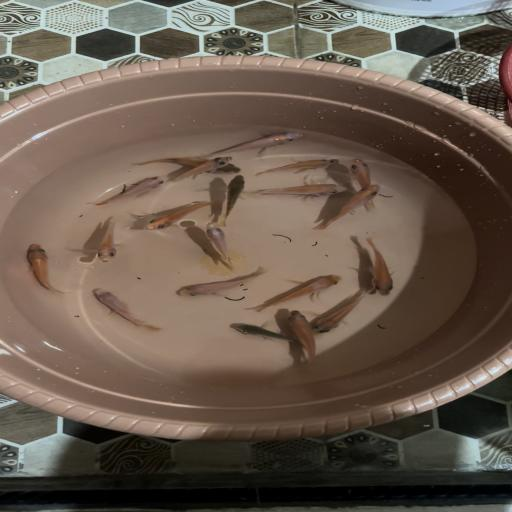nila: (244, 270, 344, 314), (90, 285, 167, 333), (173, 264, 272, 300), (316, 182, 386, 232), (315, 287, 375, 339), (353, 235, 401, 298), (22, 240, 74, 296), (205, 130, 307, 158), (132, 152, 244, 176), (144, 197, 214, 234), (94, 176, 167, 210), (283, 310, 326, 364), (224, 322, 302, 350), (213, 173, 251, 228), (90, 214, 129, 266), (202, 220, 242, 270), (348, 157, 386, 208), (171, 153, 233, 183), (246, 182, 349, 199), (256, 156, 338, 176)
